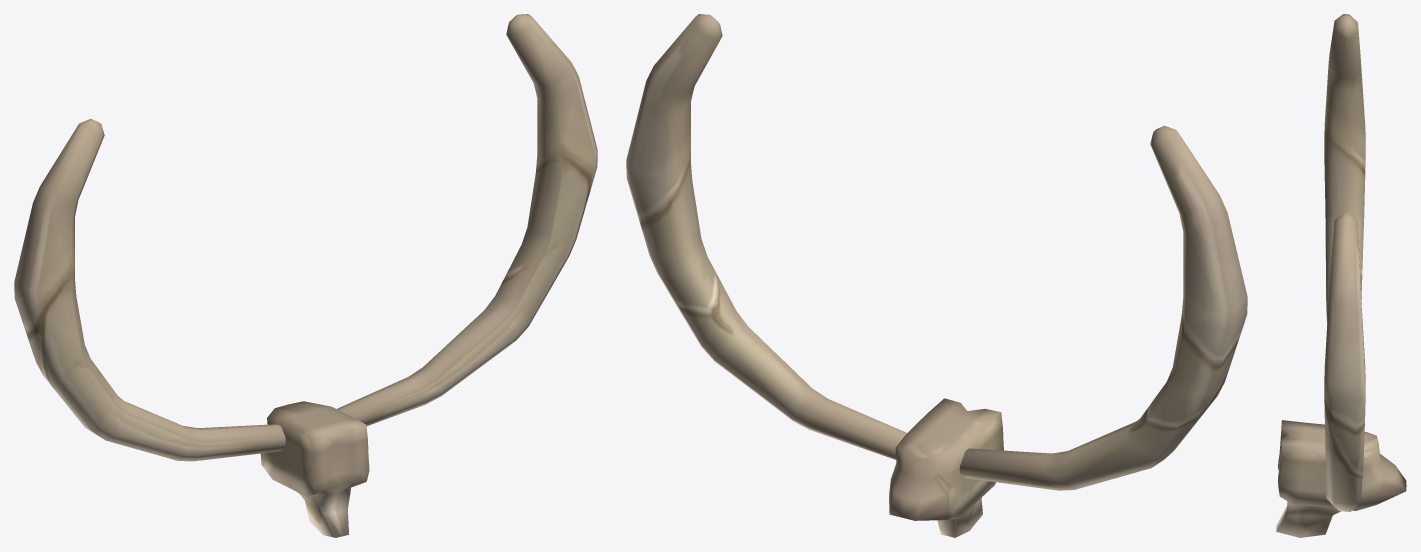
Rendered from SM_WhalefallRibs_00.fbx.
The picture shows the model from 3 angles, left to right: view 1: azimuth 30°, elevation 25°; view 2: azimuth 150°, elevation 25°; view 3: azimuth 270°, elevation 25°; orthographic projection. The views are drawn at different scales.
Visible parts, largest first — view 1: Whalefall.025; view 2: Whalefall.025; view 3: Whalefall.025.
Boxes of the visible parts, left/top/right/bottom form: Whalefall.025: left=14, top=14, right=597, bottom=537; Whalefall.025: left=626, top=14, right=1247, bottom=537; Whalefall.025: left=1276, top=14, right=1406, bottom=537.
Bounding box in the file's own units: 662 × 496 × 139.
